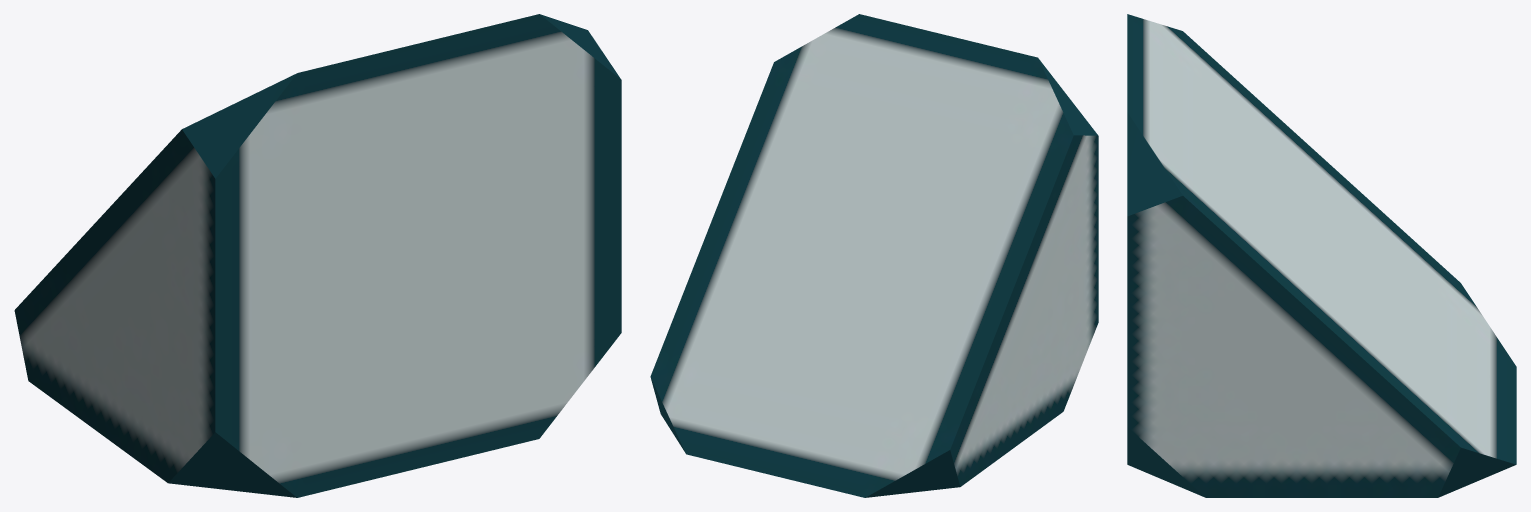
File: MG-ChangJing-03.FBX
The picture shows the model from 3 angles, left to right: view 1: azimuth 30°, elevation 25°; view 2: azimuth 150°, elevation 25°; view 3: azimuth 270°, elevation 25°; orthographic projection. The views are drawn at different scales.
Parts seen in each view (by area): view 1: MG-ChangJing-03; view 2: MG-ChangJing-03; view 3: MG-ChangJing-03.
Part boxes in pixels (bbox=[...]): MG-ChangJing-03: bbox=[14, 14, 621, 497]; MG-ChangJing-03: bbox=[650, 14, 1098, 497]; MG-ChangJing-03: bbox=[1127, 14, 1516, 497].
Size of the model in its own units: 15.75 by 15.75 by 15.75.
